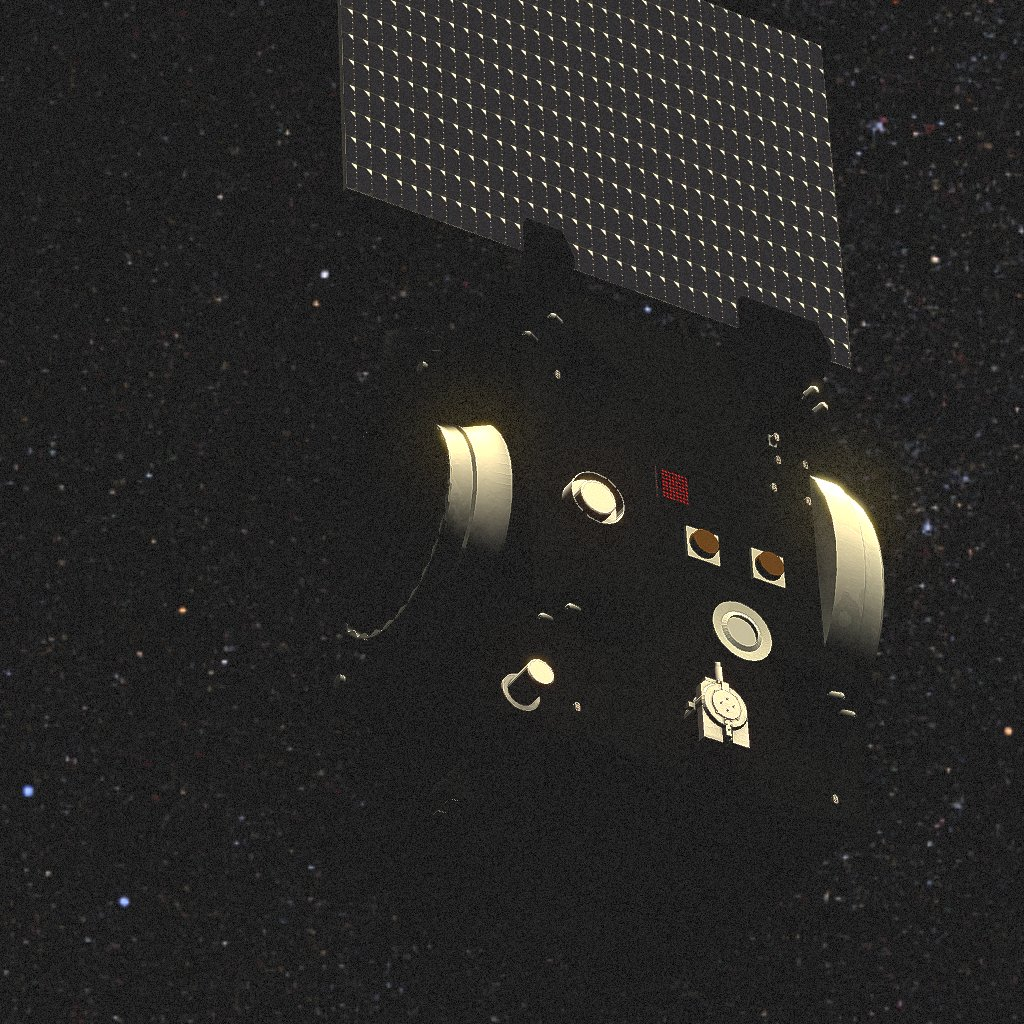proba_3_csc: (321, 0, 884, 988)
